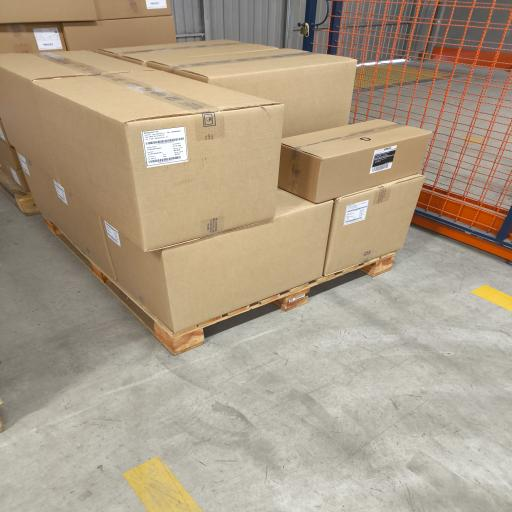pallet: (45, 219, 395, 354), (0, 174, 39, 216)
